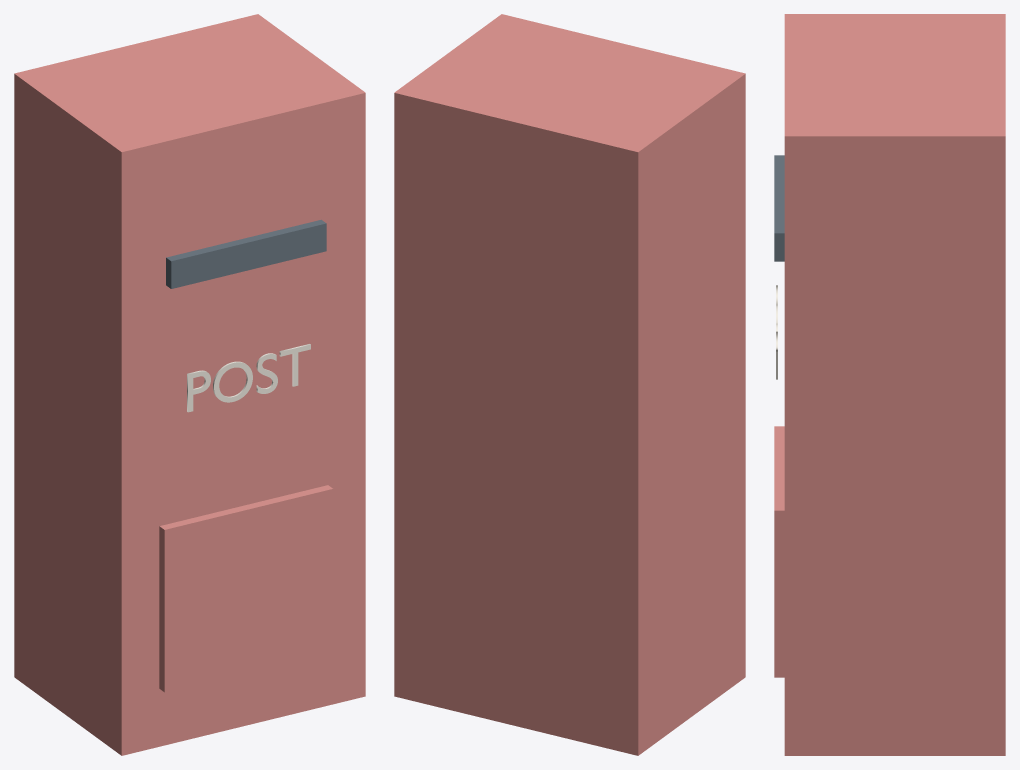
Rendered from post_box.glb.
3 views of the same model, side by side, from view 1: azimuth 30°, elevation 25°; view 2: azimuth 150°, elevation 25°; view 3: azimuth 270°, elevation 25° (orthographic). The views are drawn at different scales.
Visible parts, largest first — view 1: post_box_000, post_box_003, post_box_001, post_box_002; view 2: post_box_000; view 3: post_box_000, post_box_003, post_box_001.
Part boxes in pixels (<box>): post_box_000: <box>14,14,365,755</box>; post_box_003: <box>159,485,333,692</box>; post_box_001: <box>166,219,326,288</box>; post_box_002: <box>187,344,310,412</box>; post_box_000: <box>394,14,745,755</box>; post_box_000: <box>784,14,1005,755</box>; post_box_003: <box>774,426,784,677</box>; post_box_001: <box>774,155,784,261</box>.
Bounding box in the file's own units: 0.55 × 1.3 × 0.44.
